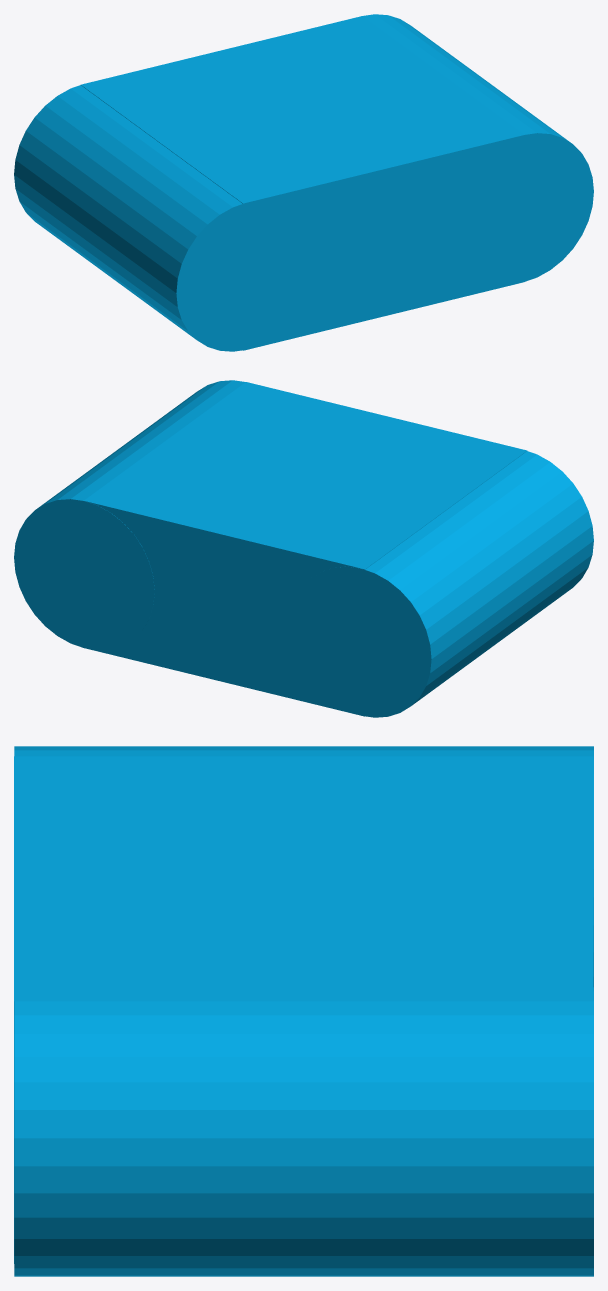
File: body.dae
The picture shows the model from 3 angles, top to bottom: view 1: azimuth 30°, elevation 25°; view 2: azimuth 150°, elevation 25°; view 3: azimuth 270°, elevation 25°; orthographic projection. The views are drawn at different scales.
Visible parts, largest first — view 1: Cube, Cylinder.001, Cylinder; view 2: Cube, Cylinder.001, Cylinder; view 3: Cylinder, Cube, Cylinder.001.
Boxes of the visible parts, box(x1,y1,x2,y2) form: Cube: box(81, 16, 524, 350); Cylinder.001: box(14, 85, 242, 351); Cylinder: box(362, 14, 593, 281); Cube: box(84, 382, 527, 716); Cylinder.001: box(291, 451, 593, 717); Cylinder: box(14, 380, 245, 650); Cylinder: box(14, 987, 593, 1276); Cube: box(14, 756, 593, 1263); Cylinder.001: box(14, 746, 593, 986).
Bounding box in the file's own units: 0.2375 × 0.1601 × 0.08.
